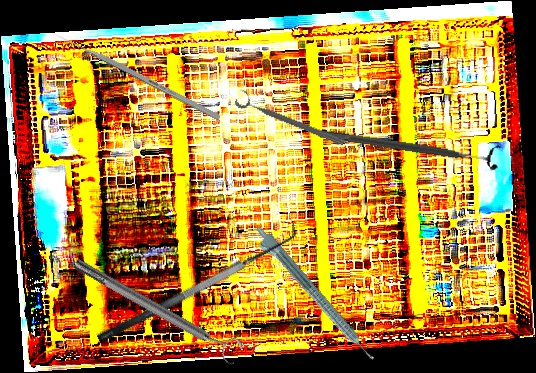Fixation Ring: (69, 249, 246, 368), (315, 119, 503, 173), (233, 87, 349, 150)
Handpiece: (247, 223, 378, 369)
Pusher: (52, 30, 222, 121)
Spatula Surgical: (87, 217, 305, 345)
